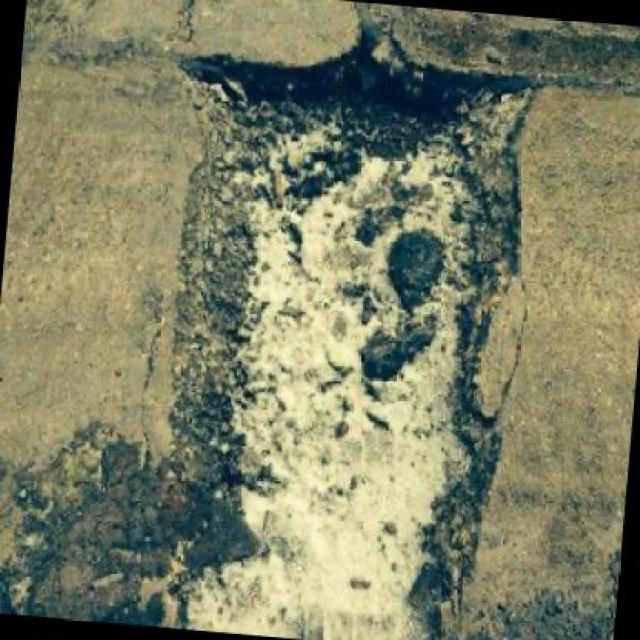pothole1: (115, 17, 551, 638)
